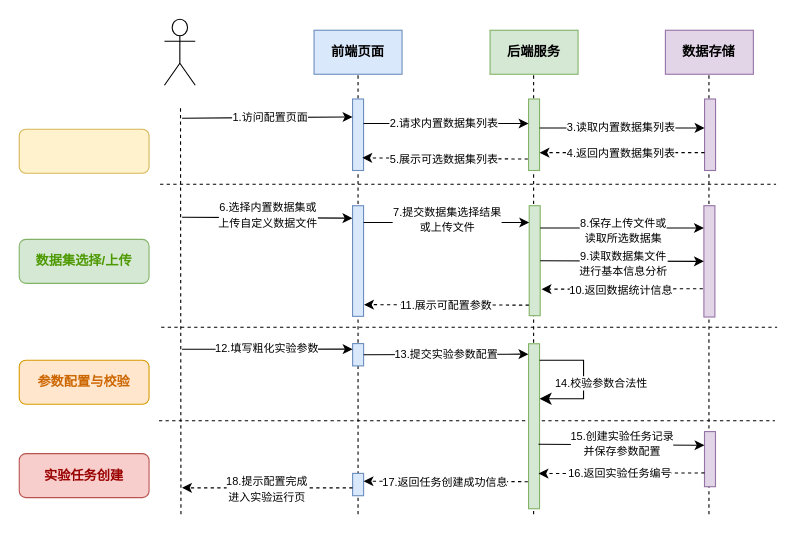
Image size: 798x535. Some labels were removed from this diagram. Here are the shapes that lost their labels. From the top down, the box of each, then its label:
(163, 18, 195, 85): 用户
(18, 128, 149, 173): 获取内置数据集列表
